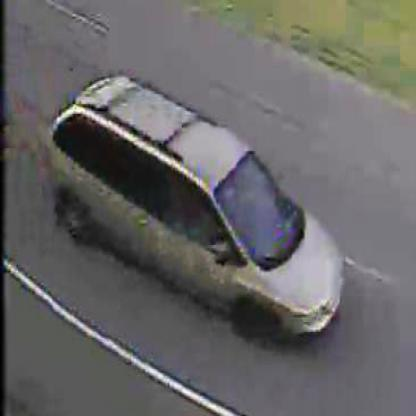car: (53, 82, 342, 340)
